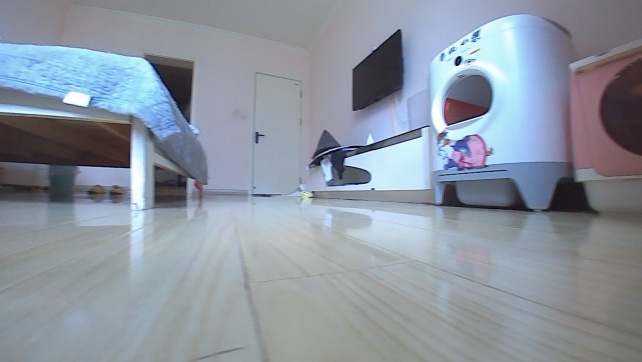TV_stand: (307, 125, 440, 208)
bed1: (0, 40, 211, 212)
door_anno: (246, 65, 307, 195)
